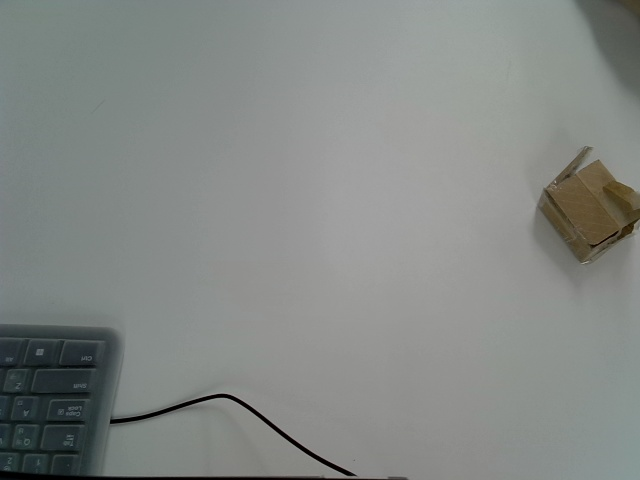defect: (537, 146, 640, 265)
